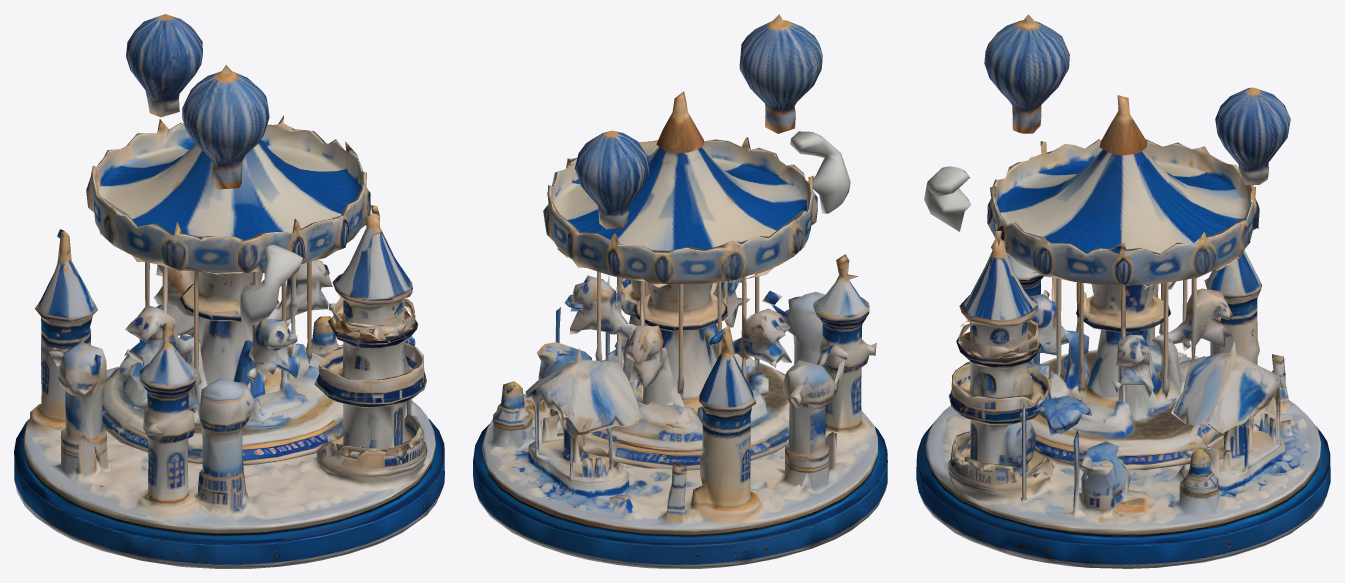
The model's file is tripo_convert_18158740-84bc-4d65-a81d-88744f10eab6.fbx.
The picture shows the model from 3 angles, left to right: view 1: azimuth 30°, elevation 25°; view 2: azimuth 150°, elevation 25°; view 3: azimuth 270°, elevation 25°; orthographic projection. The views are drawn at different scales.
Parts seen in each view (by area): view 1: tripo_node_18158740; view 2: tripo_node_18158740; view 3: tripo_node_18158740.
Part boxes in pixels (x1=…): tripo_node_18158740: x1=14, y1=14, x2=444, y2=568; tripo_node_18158740: x1=473, y1=14, x2=887, y2=568; tripo_node_18158740: x1=916, y1=14, x2=1330, y2=568.
Bounding box in the file's own units: 0.7861 × 0.9948 × 0.7891.
